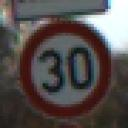speed_limit_30: (18, 21, 114, 120)
